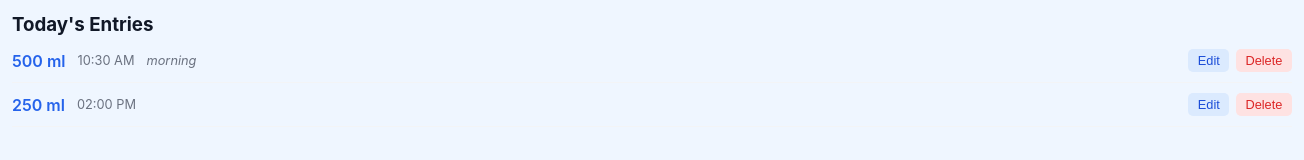
EntryList › exits edit mode when Cancel is clicked
Click the button "Edit" in the row of "morning": coordinates (1209, 61) [1188, 49, 1230, 72]
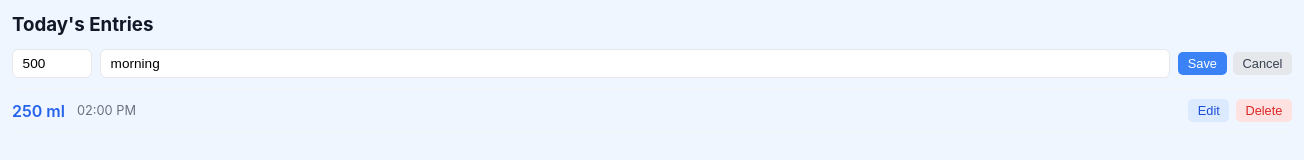
Expected: the button "Save" is shown, [1178, 52, 1227, 75]
Click the button "Cancel": coordinates (1262, 64) [1233, 52, 1292, 75]
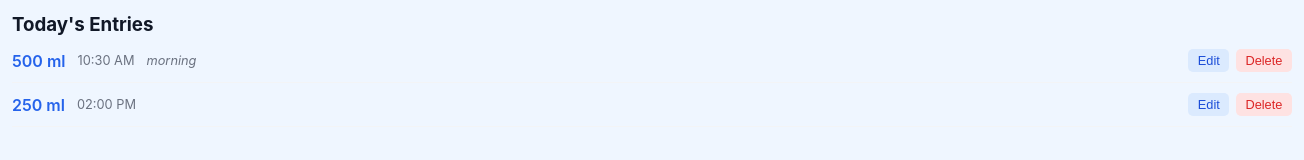
Expected: the button "Save" is gone
